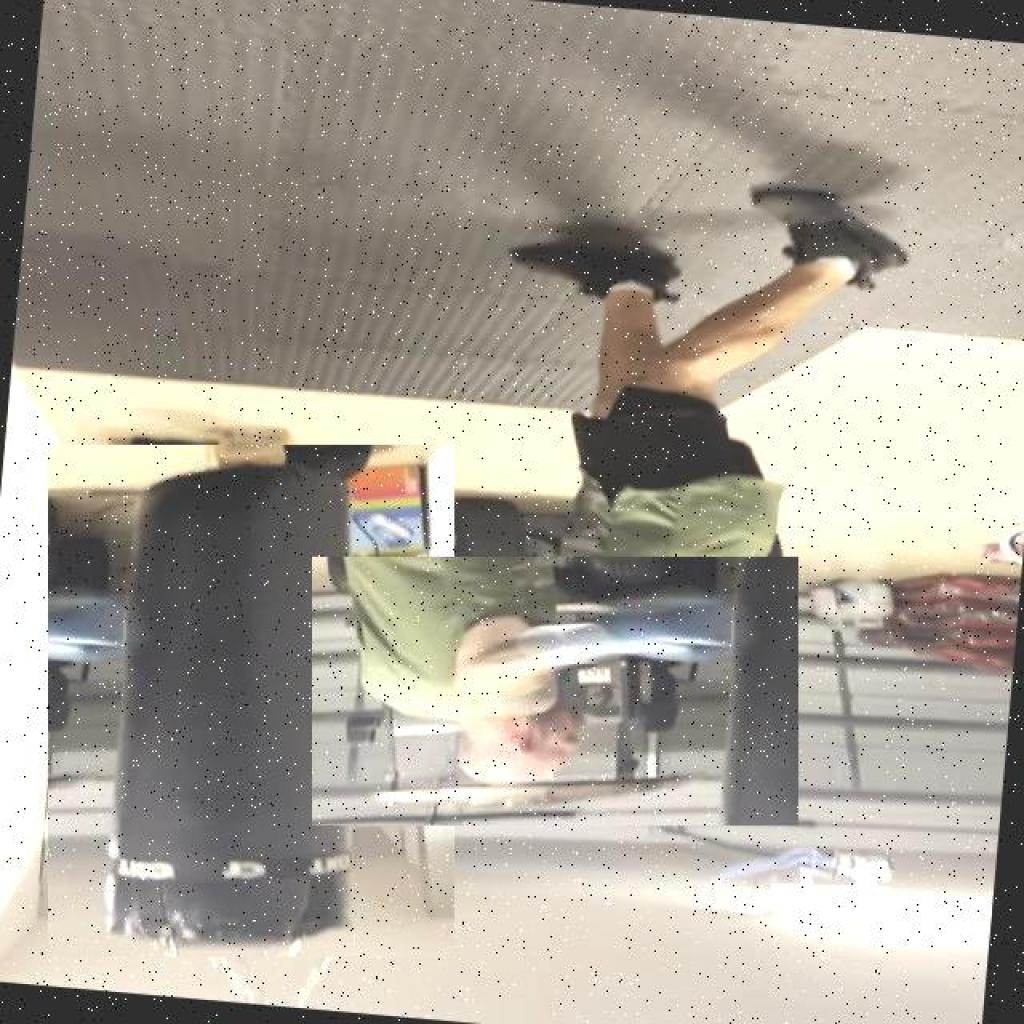bag: (48, 444, 454, 958)
hook: (312, 557, 798, 826)
